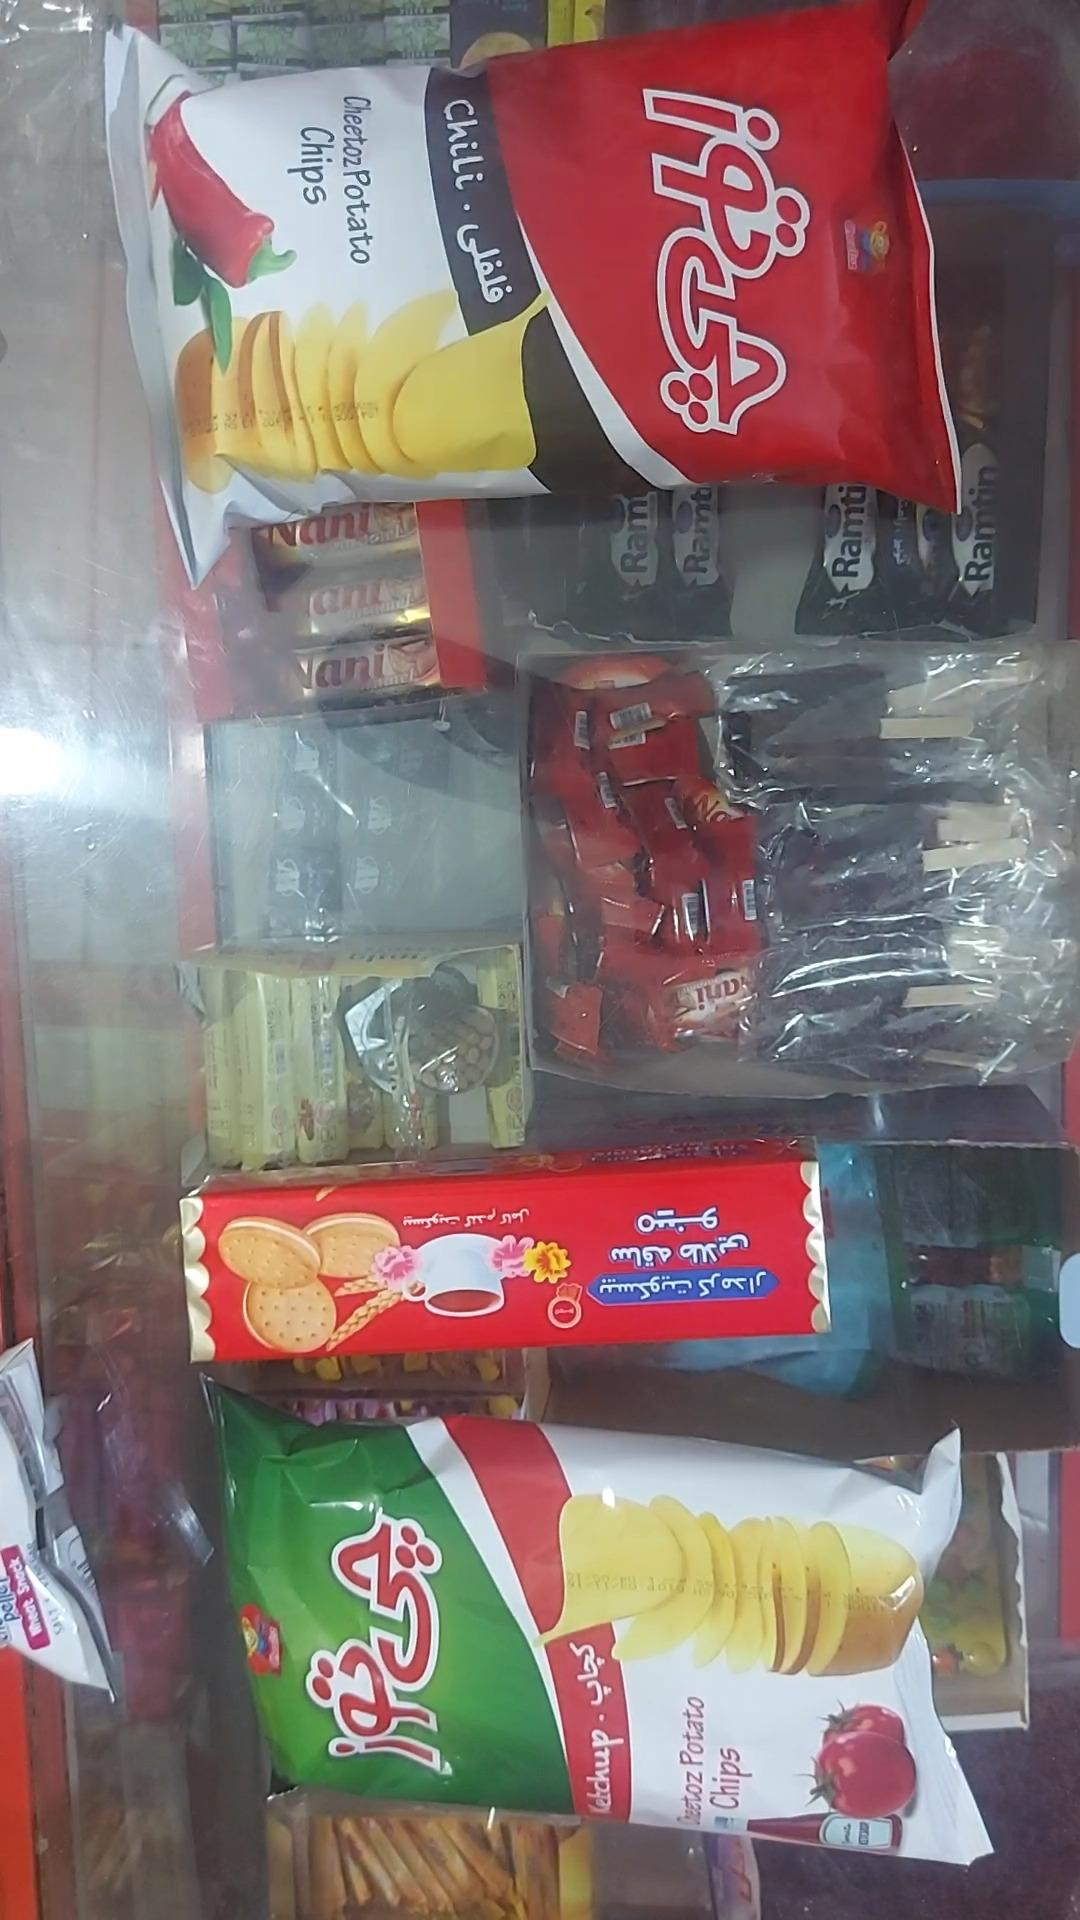Cheetoz chili chips: (102, 0, 961, 585)
Cheetoz ketchup chips: (198, 1369, 996, 1866)
Minoo cream biscuit: (182, 1139, 831, 1364)
